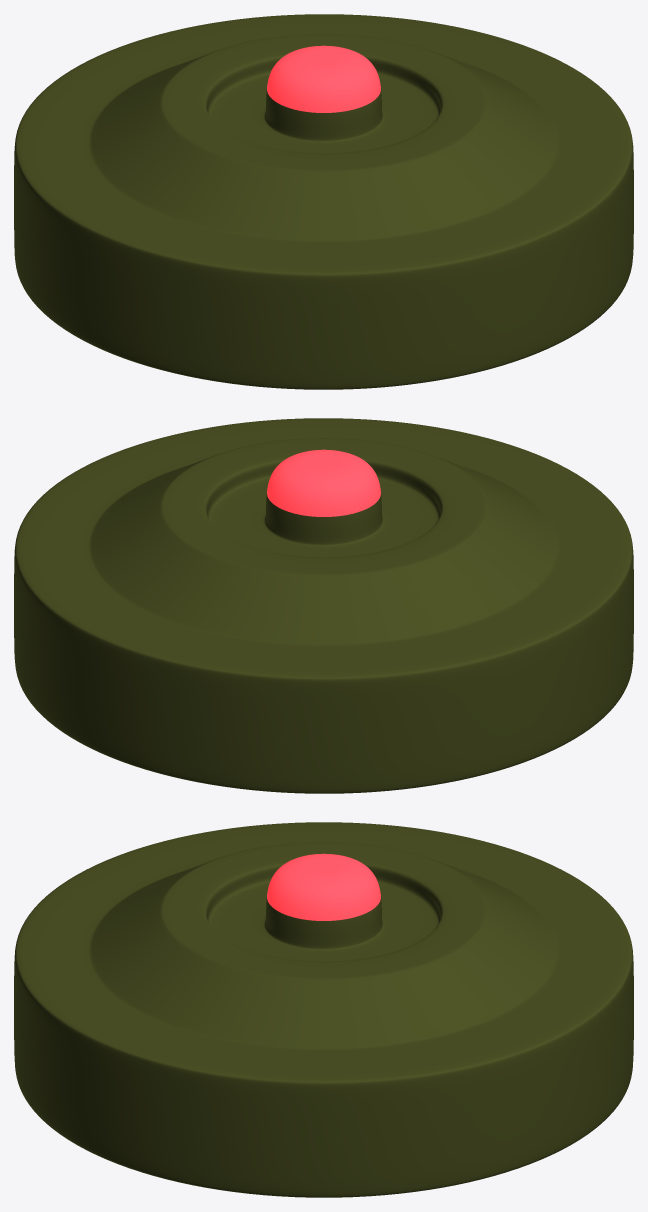
File: HighPolyMine.glb
3 renders of one model, top to bottom at view 1: azimuth 30°, elevation 25°; view 2: azimuth 150°, elevation 25°; view 3: azimuth 270°, elevation 25°, orthographic.
Visible parts, largest first — view 1: Cylinder; view 2: Cylinder; view 3: Cylinder.
Boxes of the visible parts, x1,y1,x2,y2 form: Cylinder: (14,14,633,389); Cylinder: (14,418,633,793); Cylinder: (14,822,633,1197).
Bounding box in the file's own units: 1.95 × 0.7047 × 1.95.
